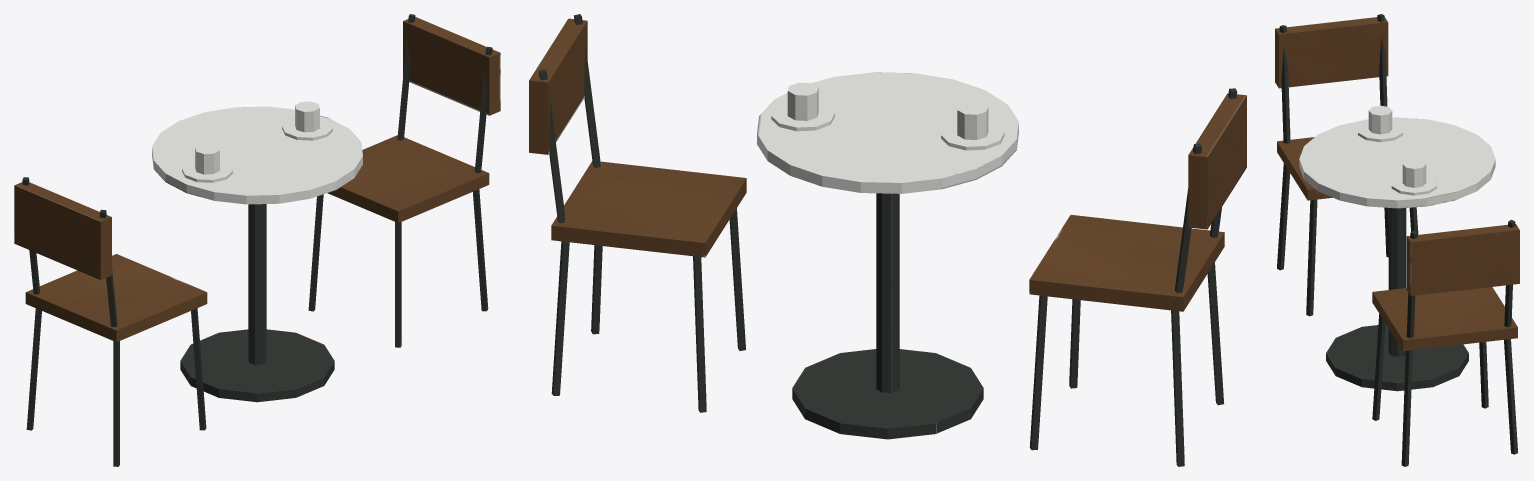
File: stolek_kavarna_d34c0817.glb
3 renders of one model, left to right at view 1: azimuth 30°, elevation 25°; view 2: azimuth 150°, elevation 25°; view 3: azimuth 270°, elevation 25°, orthographic. The views are drawn at different scales.
Visible parts, largest first — view 1: dum; view 2: dum; view 3: dum.
Part boxes in pixels (bbox=[...]): dum: bbox=[14, 14, 500, 466]; dum: bbox=[529, 14, 1246, 466]; dum: bbox=[1275, 14, 1519, 466].
Size of the model in its own units: 1.79 by 0.8799 by 0.8205.
Materials: 1 (1 with a texture image).
